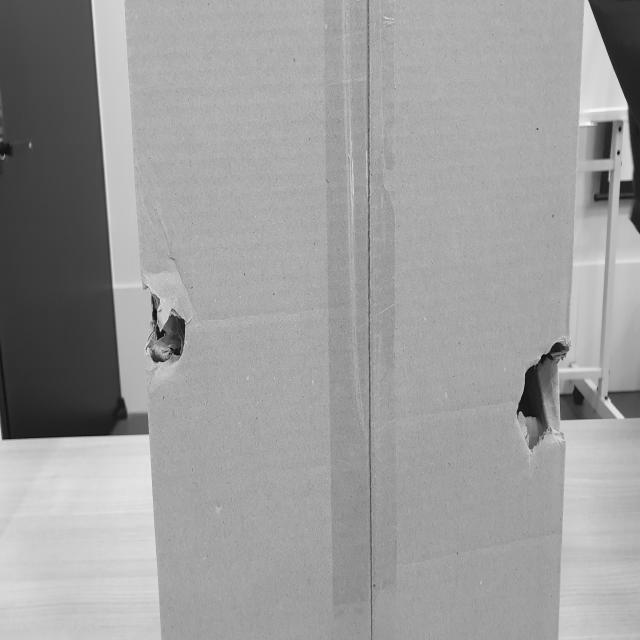hole: (516, 334, 570, 470), (143, 270, 189, 383)
